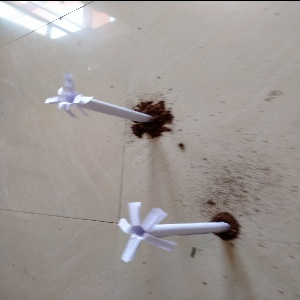weed: (45, 70, 156, 140), (114, 199, 236, 262)
